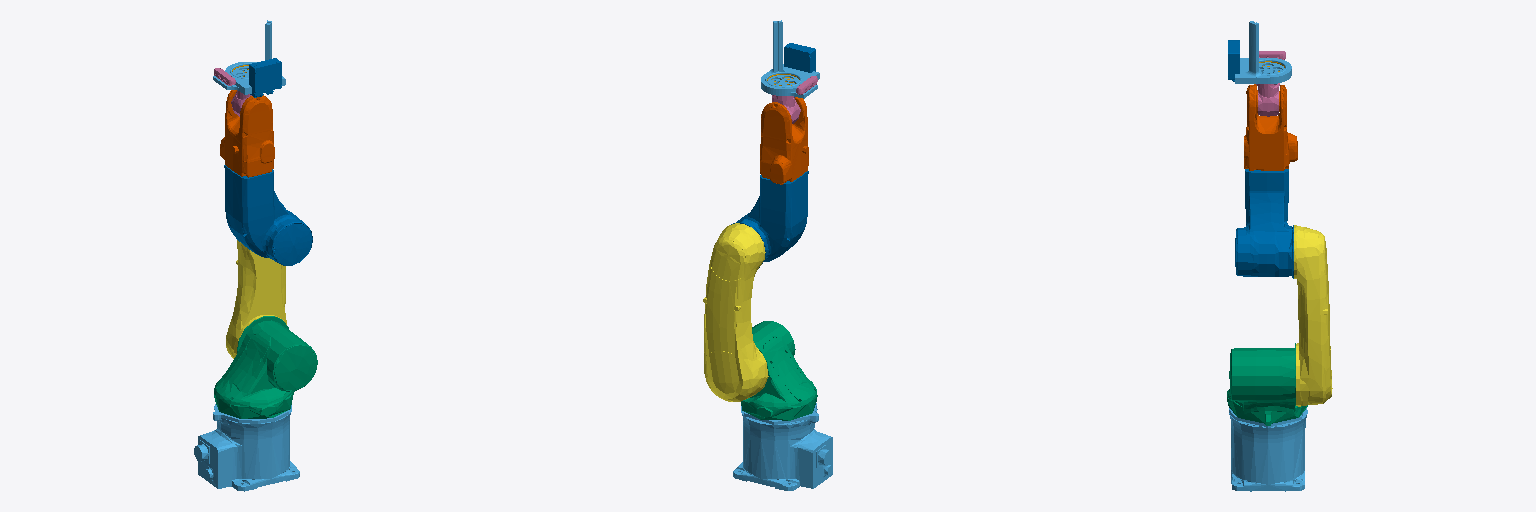
--- What the picture shows (computed from the rendered views, not written in the file) ---
3 views of the same robot in one strip: view 1: azimuth 30°, elevation 25°; view 2: azimuth 150°, elevation 25°; view 3: azimuth 270°, elevation 25° (orthographic).
Robot: add_post_pro_robot — 23 links, 22 joints (7 revolute, 1 prismatic, 14 fixed); root link world; default pose: every joint at zero.
Links seen in each view (by area): view 1: J1, base_link, J3, J2, J4, EEF_scancontrol, EEF_sensor_holder; view 2: J2, base_link, J1, J3, J4, EEF_sensor_holder, EEF_scancontrol; view 3: J2, J3, base_link, J1, J4, EEF_sensor_holder, J5.
Boxes of the visible links, x1=… form: J1: x1=214, y1=316, x2=317, y2=418; base_link: x1=194, y1=404, x2=299, y2=491; J3: x1=224, y1=165, x2=312, y2=265; J2: x1=226, y1=240, x2=286, y2=358; J4: x1=220, y1=90, x2=274, y2=177; EEF_scancontrol: x1=249, y1=58, x2=281, y2=97; EEF_sensor_holder: x1=213, y1=20, x2=285, y2=94; J2: x1=703, y1=223, x2=768, y2=401; base_link: x1=733, y1=403, x2=832, y2=490; J1: x1=741, y1=321, x2=817, y2=420; J3: x1=731, y1=171, x2=808, y2=267; J4: x1=760, y1=97, x2=808, y2=184; EEF_sensor_holder: x1=761, y1=20, x2=819, y2=98; EEF_scancontrol: x1=784, y1=43, x2=815, y2=72; J2: x1=1294, y1=225, x2=1332, y2=406; J3: x1=1235, y1=169, x2=1293, y2=278; base_link: x1=1229, y1=408, x2=1307, y2=491; J1: x1=1227, y1=343, x2=1307, y2=425; J4: x1=1244, y1=84, x2=1297, y2=170; EEF_sensor_holder: x1=1235, y1=21, x2=1291, y2=83; J5: x1=1256, y1=83, x2=1279, y2=116.
Bounding box of the posed robot: 0.3298 × 0.2828 × 1.36 m (x, y, z).
Meshes: 13 distinct files referenced, 11 mesh visuals loaded (11 binary STL); not drawn: 2 (reference not matched to a file when rendering).

URDF robot description (add_post_pro_robot):
<?xml version="1.0" ?>
<!-- =================================================================================== -->
<!-- |    This document was autogenerated by xacro from [local-path]/zzzzz/python/compiled/coobra2050/test/catkin_ws_dep/src/add_post_pro2/add_post_pro_simulation/urdf/add_post_pro_robot.urdf.xacro | -->
<!-- |    EDITING THIS FILE BY HAND IS NOT RECOMMENDED                                 | -->
<!-- =================================================================================== -->
<!-- =================================================================================== -->
<!-- |    This document was autogenerated by xacro from [local-path]/Projects/AddPostPro/src/add_post_pro_robot/urdf/multisensor_robot.urdf.xacro | -->
<!-- |    EDITING THIS FILE BY HAND IS NOT RECOMMENDED                                 | -->
<!-- =================================================================================== -->
<robot name="add_post_pro_robot">
    <transmission name="trans_1">
        <type>transmission_interface/SimpleTransmission</type>
        <joint name="joint_1">
            <hardwareInterface>hardware_interface/PositionJointInterface</hardwareInterface>
        </joint>
        <actuator name="motor_1">
            <hardwareInterface>hardware_interface/PositionJointInterface</hardwareInterface>
            <mechanicalReduction>1</mechanicalReduction>
        </actuator>
    </transmission>
    <transmission name="trans_2">
        <type>transmission_interface/SimpleTransmission</type>
        <joint name="joint_2">
            <hardwareInterface>hardware_interface/PositionJointInterface</hardwareInterface>
        </joint>
        <actuator name="motor_2">
            <hardwareInterface>hardware_interface/PositionJointInterface</hardwareInterface>
            <mechanicalReduction>1</mechanicalReduction>
        </actuator>
    </transmission>
    <transmission name="trans_3">
        <type>transmission_interface/SimpleTransmission</type>
        <joint name="joint_3">
            <hardwareInterface>hardware_interface/PositionJointInterface</hardwareInterface>
        </joint>
        <actuator name="motor_3">
            <hardwareInterface>hardware_interface/PositionJointInterface</hardwareInterface>
            <mechanicalReduction>1</mechanicalReduction>
        </actuator>
    </transmission>
    <transmission name="trans_4">
        <type>transmission_interface/SimpleTransmission</type>
        <joint name="joint_4">
            <hardwareInterface>hardware_interface/PositionJointInterface</hardwareInterface>
        </joint>
        <actuator name="motor_4">
            <hardwareInterface>hardware_interface/PositionJointInterface</hardwareInterface>
            <mechanicalReduction>1</mechanicalReduction>
        </actuator>
    </transmission>
    <transmission name="trans_5">
        <type>transmission_interface/SimpleTransmission</type>
        <joint name="joint_5">
            <hardwareInterface>hardware_interface/PositionJointInterface</hardwareInterface>
        </joint>
        <actuator name="motor_5">
            <hardwareInterface>hardware_interface/PositionJointInterface</hardwareInterface>
            <mechanicalReduction>1</mechanicalReduction>
        </actuator>
    </transmission>
    <transmission name="trans_6">
        <type>transmission_interface/SimpleTransmission</type>
        <joint name="joint_6">
            <hardwareInterface>hardware_interface/PositionJointInterface</hardwareInterface>
        </joint>
        <actuator name="motor_6">
            <hardwareInterface>hardware_interface/PositionJointInterface</hardwareInterface>
            <mechanicalReduction>1</mechanicalReduction>
        </actuator>
    </transmission>
    <gazebo>
        <plugin filename="libgazebo_ros_control.so" name="gazebo_ros_control">
            <robotNamespace>/add_post_pro_robot</robotNamespace>
        </plugin>
    </gazebo>
    <link name="world" />
    <joint name="joint_w" type="fixed">
        <parent link="world" />
        <child link="base_link" />
        <origin xyz="0 0 0" />
    </joint>
    <link name="base_link">
        <visual>
            <origin rpy="0 0 0" xyz="0 0 0" />
            <geometry>
                <mesh filename="package://denso_robot_descriptions/vs6577_description/meshes/base_link.stl" scale="1 1 1" />
            </geometry>
        </visual>
        <collision>
            <origin rpy="0 0 0" xyz="0 0 0" />
            <geometry>
                <mesh filename="package://denso_robot_descriptions/vs6577_description/meshes/base_link.stl" scale="1 1 1" />
            </geometry>
        </collision>
        <inertial>
            <mass value="1" />
            <origin rpy="0.000000 0.000000 0.000000" xyz="0.000000 0.000000 0.000000" />
            <inertia ixx="1" ixy="0" ixz="0" iyy="1" iyz="0" izz="1" />
        </inertial>
    </link>
    <link name="J1">
        <visual>
            <origin rpy="0 0 0" xyz="0 0 0" />
            <geometry>
                <mesh filename="package://denso_robot_descriptions/vs6577_description/meshes/J1.stl" scale="1 1 1" />
            </geometry>
        </visual>
        <collision>
            <origin rpy="0 0 0" xyz="0 0 0" />
            <geometry>
                <mesh filename="package://denso_robot_descriptions/vs6577_description/meshes/J1.stl" scale="1 1 1" />
            </geometry>
        </collision>
        <inertial>
            <mass value="1" />
            <origin rpy="0.000000 0.000000 0.000000" xyz="0.000000 0.000000 0.000000" />
            <inertia ixx="1" ixy="0" ixz="0" iyy="1" iyz="0" izz="1" />
        </inertial>
    </link>
    <link name="J2">
        <visual>
            <origin rpy="0 0 0" xyz="0 0 0" />
            <geometry>
                <mesh filename="package://denso_robot_descriptions/vs6577_description/meshes/J2.stl" scale="1 1 1" />
            </geometry>
        </visual>
        <collision>
            <origin rpy="0 0 0" xyz="0 0 0" />
            <geometry>
                <mesh filename="package://denso_robot_descriptions/vs6577_description/meshes/J2.stl" scale="1 1 1" />
            </geometry>
        </collision>
        <inertial>
            <mass value="1" />
            <origin rpy="0.000000 0.000000 0.000000" xyz="0.000000 0.000000 0.000000" />
            <inertia ixx="1" ixy="0" ixz="0" iyy="1" iyz="0" izz="1" />
        </inertial>
    </link>
    <link name="J3">
        <visual>
            <origin rpy="0 0 0" xyz="0 0 0" />
            <geometry>
                <mesh filename="package://denso_robot_descriptions/vs6577_description/meshes/J3.stl" scale="1 1 1" />
            </geometry>
        </visual>
        <collision>
            <origin rpy="0 0 0" xyz="0 0 0" />
            <geometry>
                <mesh filename="package://denso_robot_descriptions/vs6577_description/meshes/J3.stl" scale="1 1 1" />
            </geometry>
        </collision>
        <inertial>
            <mass value="1" />
            <origin rpy="0.000000 0.000000 0.000000" xyz="0.000000 0.000000 0.000000" />
            <inertia ixx="1" ixy="0" ixz="0" iyy="1" iyz="0" izz="1" />
        </inertial>
    </link>
    <link name="J4">
        <visual>
            <origin rpy="0 0 0" xyz="0 0 0" />
            <geometry>
                <mesh filename="package://denso_robot_descriptions/vs6577_description/meshes/J4.stl" scale="1 1 1" />
            </geometry>
        </visual>
        <collision>
            <origin rpy="0 0 0" xyz="0 0 0" />
            <geometry>
                <mesh filename="package://denso_robot_descriptions/vs6577_description/meshes/J4.stl" scale="1 1 1" />
            </geometry>
        </collision>
        <inertial>
            <mass value="1" />
            <origin rpy="0.000000 0.000000 0.000000" xyz="0.000000 0.000000 0.000000" />
            <inertia ixx="1" ixy="0" ixz="0" iyy="1" iyz="0" izz="1" />
        </inertial>
    </link>
    <link name="J5">
        <visual>
            <origin rpy="0 0 0" xyz="0 0 0" />
            <geometry>
                <mesh filename="package://denso_robot_descriptions/vs6577_description/meshes/J5.stl" scale="1 1 1" />
            </geometry>
        </visual>
        <collision>
            <origin rpy="0 0 0" xyz="0 0 0" />
            <geometry>
                <mesh filename="package://denso_robot_descriptions/vs6577_description/meshes/J5.stl" scale="1 1 1" />
            </geometry>
        </collision>
        <inertial>
            <mass value="1" />
            <origin rpy="0.000000 0.000000 0.000000" xyz="0.000000 0.000000 0.000000" />
            <inertia ixx="1" ixy="0" ixz="0" iyy="1" iyz="0" izz="1" />
        </inertial>
    </link>
    <link name="J6">
        <visual>
            <origin rpy="0 0 0" xyz="0 0 0" />
            <geometry>
                <mesh filename="package://denso_robot_descriptions/vs6577_description/meshes/J6.stl" scale="1 1 1" />
            </geometry>
        </visual>
        <collision>
            <origin rpy="0 0 0" xyz="0 0 0" />
            <geometry>
                <mesh filename="package://denso_robot_descriptions/vs6577_description/meshes/J6.stl" scale="1 1 1" />
            </geometry>
        </collision>
        <inertial>
            <mass value="1" />
            <origin rpy="0.000000 0.000000 0.000000" xyz="0.000000 0.000000 0.000000" />
            <inertia ixx="1" ixy="0" ixz="0" iyy="1" iyz="0" izz="1" />
        </inertial>
    </link>
    <gazebo reference="base_link">
        <material>Gazebo/CoM</material>
    </gazebo>
    <gazebo reference="J1">
        <material>Gazebo/Gray</material>
    </gazebo>
    <gazebo reference="J2">
        <material>Gazebo/Gray</material>
    </gazebo>
    <gazebo reference="J3">
        <material>Gazebo/Gray</material>
    </gazebo>
    <gazebo reference="J4">
        <material>Gazebo/Gray</material>
    </gazebo>
    <gazebo reference="J5">
        <material>Gazebo/Gray</material>
    </gazebo>
    <gazebo reference="J6">
        <material>Gazebo/Gray</material>
    </gazebo>
    <gazebo reference="EEF_tool_mount">
        <material>Gazebo/CoM</material>
    </gazebo>
    <gazebo>
        <gravity>False</gravity>
    </gazebo>
    <joint name="joint_1" type="revolute">
        <parent link="base_link" />
        <child link="J1" />
        <origin rpy="0.000000 0.000000 0.000000" xyz="0.000000 0.000000 0.000000" />
        <axis xyz="-0.000000 -0.000000 1.000000" />
        <limit effort="100" lower="-2.96706" upper="2.96706" velocity="1" />
        <dynamics damping="0" friction="0" />
    </joint>
    <joint name="joint_2" type="revolute">
        <parent link="J1" />
        <child link="J2" />
        <origin rpy="0.000000 0.000000 0.000000" xyz="0.075000 0.000000 0.335000" />
        <axis xyz="-0.000000 1.000000 -0.000000" />
        <limit effort="100" lower="-1.745329" upper="2.356194" velocity="1" />
        <dynamics damping="0" friction="0" />
    </joint>
    <joint name="joint_3" type="revolute">
        <parent link="J2" />
        <child link="J3" />
        <origin rpy="0.000000 0.000000 0.000000" xyz="0.000000 0.000000 0.365000" />
        <axis xyz="-0.000000 1.000000 -0.000000" />
        <limit effort="100" lower="-2.076942" upper="2.949606" velocity="1" />
        <dynamics damping="0" friction="0" />
    </joint>
    <joint name="joint_4" type="revolute">
        <parent link="J3" />
        <child link="J4" />
        <origin rpy="0.000000 0.000000 0.000000" xyz="-0.090000 0.000000 -0.700000" />
        <axis xyz="-0.000000 -0.000000 1.000000" />
        <limit effort="100" lower="-3.316126" upper="3.316126" velocity="1" />
        <dynamics damping="0" friction="0" />
    </joint>
    <joint name="joint_5" type="revolute">
        <parent link="J4" />
        <child link="J5" />
        <origin rpy="0.000000 0.000000 0.000000" xyz="0.000000 0.000000 1.105000" />
        <axis xyz="-0.000000 1.000000 -0.000000" />
        <limit effort="100" lower="-2.094395" upper="2.094395" velocity="1" />
        <dynamics damping="0" friction="0" />
    </joint>
    <joint name="joint_6" type="revolute">
        <parent link="J5" />
        <child link="J6" />
        <origin rpy="0.000000 0.000000 0.000000" xyz="0.000000 0.000000 0.080000" />
        <axis xyz="-0.000000 -0.000000 1.000000" />
        <limit effort="100" lower="-6.283185" upper="6.283185" velocity="1" />
        <dynamics damping="0" friction="0" />
    </joint>
    <!--link name="turntable_base">
        <visual>
            <origin rpy="0 0 0" xyz="0 0 0" />
            <geometry>
                <cylinder length=".32" radius=".02" />
            </geometry>
        </visual>
        <collision>
            <origin rpy="0 0 0" xyz="0 0 0" />
            <geometry>
                <cylinder length=".32" radius=".02" />
            </geometry>
        </collision>
        <inertial>
            <origin rpy="0 0 0" xyz="0 0 0" />
            <mass value="1" />
            <inertia ixx="100" ixy="0" ixz="0" iyy="100" iyz="0" izz="100" />
        </inertial>
    </link>
    <link name="turntable_plate">
        <visual>
            <origin rpy="0 0 0" xyz="0 0 0" />
            <geometry>
                <cylinder length=".01" radius=".15" />
            </geometry>
            <material name="Red">
                <color rgba="1.0 0 0 1.0" />
            </material>
        </visual>
        <collision>
            <origin rpy="0 0 0" xyz="0 0 0" />
            <geometry>
                <cylinder length=".01" radius=".15" />
            </geometry>
        </collision>
        <inertial>
            <origin rpy="0 0 0" xyz="0 0 0" />
            <mass value="1" />
            <inertia ixx="100" ixy="0" ixz="0" iyy="100" iyz="0" izz="100" />
        </inertial>
    </link>
    <joint name="turntable_joint" type="fixed">
        
        <parent link="world" />
        <child link="turntable_base" />
        <origin rpy="0 0 0" xyz="0 -.6 0.16" />
       
    </joint>
    <joint name="turntable_revolve_joint" type="continuous">
        <parent link="turntable_base" />
        <child link="turntable_plate" />
        <origin rpy="0.000000 0.000000 0.000000" xyz="0.000000 0.000000 .16" />
        
        <limit effort="1000.0" velocity="0.5" />
        <axis xyz="0 0 1" />
    </joint>
    <transmission name="trans_turntable_revolve_joint">
        <type>transmission_interface/SimpleTransmission</type>
        <joint name="turntable_revolve_joint">
            <hardwareInterface>hardware_interface/PositionJointInterface</hardwareInterface>
        </joint>
        <actuator name="turntable_revolve_joint_motor">
            <hardwareInterface>hardware_interface/PositionJointInterface</hardwareInterface>
            <mechanicalReduction>1</mechanicalReduction>
        </actuator>
    </transmission-->
    <link name="EEF_tool_mount">
        <visual>
            <origin rpy="0.000000 0 0" xyz="0 0 0" />
            <geometry>
                <mesh filename="package://add_post_pro_robot/meshes/tool_mount.stl" scale=".001 .001 .001" />
            </geometry>
        </visual>
        <collision>
            <origin rpy="0.000000 0 0" xyz="0 0 0" />
            <geometry>
                <mesh filename="package://add_post_pro_robot/meshes/tool_mount.stl" scale=".001 .001 .001" />
            </geometry>
        </collision>
        <inertial>
            <mass value="1" />
            <origin rpy="0.000000 0.000000 0.000000" xyz="0.000000 0.000000 0.000000" />
            <inertia ixx="1" ixy="0" ixz="0" iyy="1" iyz="0" izz="1" />
        </inertial>
    </link>
    <link name="EEF_sensor_holder">
        <visual>
            <origin rpy="0 0 0" xyz="0 0 0" />
            <geometry>
                <mesh filename="package://add_post_pro_robot/meshes/multisensor_holder_origin.stl" scale=".001 .001 .001" />
            </geometry>
        </visual>
        <collision>
            <origin rpy="0 0 0" xyz="0 0 0" />
            <geometry>
                <mesh filename="package://add_post_pro_robot/meshes/multisensor_holder_origin.stl" scale=".001 .001 .001" />
            </geometry>
        </collision>
        <inertial>
            <mass value="1" />
            <origin rpy="0.000000 0.000000 0.000000" xyz="0.000000 0.000000 0.000000" />
            <inertia ixx="1" ixy="0" ixz="0" iyy="1" iyz="0" izz="1" />
        </inertial>
    </link>
    <link name="EEF_scanner" />
    <link name="EEF_depstech_camera" />
    <joint name="end_effector_mount" type="fixed">
        <parent link="J6" />
        <child link="EEF_tool_mount" />
        <origin rpy="0.000000 0.000000 0.000000" xyz="0.000000 0.000000 0.000000" />
    </joint>
    <joint name="EEF_wire_joint" type="revolute">
        <origin rpy="3.14 0 0" xyz="0.0 0 0.18" />
        <parent link="EEF_tool_mount" />
        <child link="gripper_link" />
        <axis xyz="0 0 1" />
        <limit effort="100" lower="-2.96706" upper="2.96706" velocity="3.92699081698724" />
        <dynamics damping="0" friction="0" />
    </joint>
    <link name="gripper_link">
        <inertial>
            <origin rpy="0 0 0" xyz="0.00141082792436611 0.0723032366847936 -8.43889581212869E-06" />
            <mass value="0.0799939176940473" />
            <inertia ixx="2.76844464280798E-05" ixy="-9.12624570478781E-07" ixz="-3.54399098618829E-09" iyy="2.41142132607001E-05" iyz="-1.50768187987084E-08" izz="2.86263235549508E-05" />
        </inertial>
        <visual>
            <origin rpy="0 0 0" xyz="0 0 0" />
            <geometry>
                <mesh filename="package://denso_robot_descriptions/vs6577_description/meshes/gripper_link.STL" />
            </geometry>
            <material name="">
                <color rgba="1 1 1 1" />
            </material>
        </visual>
        <collision>
            <origin rpy="0 0 0" xyz="0 0 0" />
            <geometry>
                <mesh filename="package://denso_robot_descriptions/vs6577_description/meshes/gripper_link.STL" />
            </geometry>
        </collision>
    </link>
    <link name="wire_link">
        <inertial>
            <origin rpy="0 0 0" xyz="-3.64651320699625E-09 0.145245333065823 4.7191528418343E-10" />
            <mass value="0.0460124601960045" />
            <inertia ixx="1.20903697059879E-05" ixy="3.35111235215526E-14" ixz="6.77959108035406E-13" iyy="2.20549410957124E-05" iyz="2.72380348556016E-14" izz="1.20855456355529E-05" />
        </inertial>
        <visual>
            <origin rpy="0 0 0" xyz="0 0 0" />
            <geometry>
                <mesh filename="package://denso_robot_descriptions/vs6577_description/meshes/wire_link_modified.stl" />
            </geometry>
            <material name="">
                <color rgba="0.792156862745098 0.819607843137255 0.933333333333333 1" />
            </material>
        </visual>
        <collision>
            <origin rpy="0 0 0" xyz="0 0 0" />
            <geometry>
                <mesh filename="package://denso_robot_descriptions/vs6577_description/meshes/wire_link_modified.stl" />
            </geometry>
        </collision>
    </link>
    <joint name="wire_joint" type="prismatic">
        <origin rpy="1.5707963267949 0 0" xyz="0 0 0" />
        <parent link="gripper_link" />
        <child link="wire_link" />
        <axis xyz="0 1 0" />
        <limit effort="1000.0" lower="-0.05" upper="0.0" velocity="0.5" />
    </joint>
    <joint name="end_effector_magnet" type="fixed">
        <parent link="J6" />
        <child link="EEF_sensor_holder" />
        <origin rpy="0.000000 0.000000 3.14159265359" xyz="0.000000 0.000000 0.000000" />
    </joint>
    <joint name="end_effector_scanner_holder" type="fixed">
        <parent link="EEF_sensor_holder" />
        <child link="EEF_scanner" />
        <origin rpy="0.000000 3.14159265359 1.57079632679" xyz="0.000000 0.091600 0.005500" />
    </joint>
    <joint name="end_effector_depstech_holder" type="fixed">
        <parent link="EEF_sensor_holder" />
        <child link="EEF_depstech_camera" />
        <origin rpy="0.392699081699 -0.785398163397 -0.795339912301" xyz="-0.042000 0.0353000 0.19000" />
    </joint>
    <!-- Camera link -->
    <link name="D415_camera">
        <visual>
            <origin rpy="1.57079632679 0 1.57079632679" xyz="0 0 0" />
            <geometry>
                <mesh filename="package://realsense_cam/meshes/simplified_d415.stl" />
            </geometry>
        </visual>
        <collision>
            <geometry>
                <box size="0.0078 0.130 0.0192" />
            </geometry>
        </collision>
        <inertial>
            <mass value="0.0615752" />
            <origin rpy="0 0 0" xyz="0 0 0" />
            <inertia ixx="9.108e-05" ixy="0" ixz="0" iyy="2.51e-06" iyz="0" izz="8.931e-05" />
        </inertial>
    </link>
    <!-- Connect camera to parent frame-->
    <joint name="realsense_joint" type="fixed">
        <parent link="EEF_sensor_holder" />
        <child link="D415_camera" />
        <origin rpy="0 -1.57079632679 3.14159265359" xyz=".075 0.001 .031" />
    </joint>
    <!-- Virtual links representing the cameras positons and orientations-->
    <link name="camera_for_ray_query" />
    <link name="D415_color_optical_frame" />
    <link name="D415_depth_optical_frame" />
    <link name="D415_ired1_optical_frame" />
    <link name="D415_ired2_optical_frame" />
    <!-- Joints positioning the virtual links with respect to the camera main link-->
    <joint name="ray_query_joint" type="fixed">
        <parent link="D415_camera" />
        <child link="camera_for_ray_query" />
        <!-- <origin xyz="0 -0.046 0.004" rpy="0 0 0"/> -->
        <!-- The default position is change since in Rviz the cloud depth axis is Z not X-->
        <origin rpy="1.57079632679 3.14159265359 1.57079632679" xyz="0 0 0 " />
    </joint>
    <joint name="color_joint" type="fixed">
        <parent link="D415_camera" />
        <child link="D415_color_optical_frame" />
        <!-- <origin xyz="0 -0.046 0.004" rpy="0 0 0"/> -->
        <!-- The default position is change since in Rviz the cloud depth axis is Z not X-->
        <origin rpy="1.57079632679 3.14159265359 1.57079632679" xyz="0 0 0 " />
    </joint>
    <joint name="depth_joint" type="fixed">
        <parent link="D415_camera" />
        <child link="D415_depth_optical_frame" />
        <origin rpy="0 0 0" xyz="0 0 0" />
    </joint>
    <joint name="ired1_joint" type="fixed">
        <parent link="D415_camera" />
        <child link="D415_ired1_optical_frame" />
        <origin rpy="0 0 0" xyz="0 0 0" />
    </joint>
    <joint name="ired2_joint" type="fixed">
        <parent link="D415_camera" />
        <child link="D415_ired2_optical_frame" />
        <origin rpy="0 0 0" xyz="0 -0.055 0" />
    </joint>
    <!-- **********************************************************-->
    <!-- GAZEBO DEFINITIONS ***************************************-->
    <!-- Load plugin to the model ("robot" in urdf format)-->
    <gazebo>
        <plugin filename="librealsense_gazebo_plugin.so" name="D415" />
        <!--<pose frame="">0 0 0.015 0 0 0</pose>-->
    </gazebo>
    <!-- Load parameters to model's main link-->
    <gazebo reference="D415_camera">
        <self_collide>0</self_collide>
        <enable_wind>0</enable_wind>
        <kinematic>0</kinematic>
        <gravity>1</gravity>
        <!--<mu>1</mu>-->
        <mu2>1</mu2>
        <fdir1>0 0 0</fdir1>
        <!--<slip1>0</slip1>
        <slip2>0</slip2>-->
        <kp>1e+13</kp>
        <kd>1</kd>
        <!--<max_vel>0.01</max_vel>
        <min_depth>0</min_depth>-->
        <sensor name="camera_for_ray_query" type="camera">
            <frameName>camera_for_ray_query</frameName>
            <pose frame="">0 0 0 0 0 0</pose>
            <camera name="D415_camera">
                <horizontal_fov>1.211259</horizontal_fov>
                <image>
                    <width>1280</width>
                    <height>720</height>
                    <format>R8G8B8</format>
                </image>
                <clip>
                    <near>0.1</near>
                    <far>100</far>
                </clip>
                <noise>
                    <type>gaussian</type>
                    <mean>0.0</mean>
                    <stddev>0.007</stddev>
                </noise>
            </camera>
            <plugin filename="libRayQuery.so" name="ray_query" />
            <always_on>1</always_on>
            <update_rate>30</update_rate>
            <visualize>1</visualize>
        </sensor>
        <sensor name="D415_color_optical_frame" type="camera">
            <frameName>D415_color_optical_frame</frameName>
            <pose frame="">0 0 0 0 0 0</pose>
            <camera name="D415_camera">
                <horizontal_fov>1.211259</horizontal_fov>
                <image>
                    <width>1280</width>
                    <height>720</height>
                    <format>RGB_INT8</format>
                </image>
                <clip>
                    <near>0.1</near>
                    <far>100</far>
                </clip>
                <noise>
                    <type>gaussian</type>
                    <mean>0.0</mean>
                    <stddev>0.007</stddev>
                </noise>
            </camera>
            <always_on>1</always_on>
            <update_rate>60</update_rate>
            <visualize>1</visualize>
        </sensor>
        <sensor name="D415_ired1_optical_frame" type="camera">
            <frameName>D415_ired1_optical_frame</frameName>
            <pose frame="">0 0 0 0 0 0</pose>
            <camera name="D415_camera">
                <horizontal_fov>1.047</horizontal_fov>
                <image>
                    <width>1280</width>
                    <height>720</height>
                    <format>L_INT8</format>
                </image>
                <clip>
                    <near>0.1</near>
                    <far>100</far>
                </clip>
                <noise>
                    <type>gaussian</type>
                    <mean>0.0</mean>
                    <stddev>0.05</stddev>
                </noise>
            </camera>
            <always_on>1</always_on>
            <update_rate>60</update_rate>
            <visualize>0</visualize>
        </sensor>
        <sensor name="D415_ired2_optical_frame" type="camera">
            <frameName>D415_ired2_optical_frame</frameName>
            <pose frame="">0 -0.055 0 0 0</pose>
            <camera name="D415_camera">
                <horizontal_fov>1.047</horizontal_fov>
                <image>
                    <width>1280</width>
                    <height>720</height>
                    <format>L_INT8</format>
                </image>
                <clip>
                    <near>0.1</near>
                    <far>100</far>
                </clip>
                <noise>
                    <type>gaussian</type>
                    <mean>0.0</mean>
                    <stddev>0.05</stddev>
                </noise>
            </camera>
            <always_on>1</always_on>
            <update_rate>60</update_rate>
            <visualize>0</visualize>
        </sensor>
        <sensor name="D415_depth_optical_frame" type="depth">
            <pose frame="">0 0 0 0 0 0</pose>
            <camera name="D415_camera">
                <frameName>D415_depth_optical_frame</frameName>
                <horizontal_fov>1.13446</horizontal_fov>
                <image>
                    <width>1280</width>
                    <height>720</height>
                </image>
                <clip>
                    <near>0.1</near>
                    <far>100</far>
                </clip>
                <noise>
                    <type>gaussian</type>
                    <mean>0.0</mean>
                    <stddev>0.100</stddev>
                </noise>
            </camera>
            <always_on>1</always_on>
            <update_rate>60</update_rate>
            <visualize>0</visualize>
        </sensor>
    </gazebo>
    <!-- DONE -->
    <!-- Scanner link -->
    <link name="EEF_scancontrol">
        <visual>
            <origin rpy="0 0 0" xyz="0 0 0" />
            <geometry>
                <mesh filename="package://add_post_pro_robot/meshes/scancontrol2900.stl" scale=".001 .001 .001" />
            </geometry>
        </visual>
        <collision>
            <origin rpy="0 0 0" xyz="0 0 0" />
            <geometry>
                <mesh filename="package://add_post_pro_robot/meshes/scancontrol2900_collision.stl" scale=".001 .001 .001" />
            </geometry>
        </collision>
        <inertial>
            <mass value="1" />
            <origin rpy="0.000000 0.000000 0.000000" xyz="0.000000 0.000000 0.000000" />
            <inertia ixx="1" ixy="0" ixz="0" iyy="1" iyz="0" izz="1" />
        </inertial>
    </link>
    <link name="scancontrol2900-50_laser" />
    <joint name="end_effector_scanner" type="fixed">
        <parent link="EEF_scanner" />
        <child link="EEF_scancontrol" />
        <origin rpy="0.000000 0.000000 0.000000" xyz="0.000000 0.000000 0.000000" />
    </joint>
    <joint name="laser_joint" type="fixed">
        <parent link="EEF_scancontrol" />
        <child link="scancontrol2900-50_laser" />
        <origin rpy="0 1.57079632679 -1.57079632679" xyz="0 -0.0324522 -.0761366" />
    </joint>
    <!-- <origin xyz="0 -0.0324522 -.0761366" rpy="${M_PI} ${M_PI/2} ${M_PI/2}"/> -->
    <gazebo reference="scancontrol2900-50_laser">
        <sensor name="scancontrol" type="gpu_ray">
            <pose>0 0 0 0 0 0</pose>
            <visualize>true</visualize>
            <update_rate>40</update_rate>
            <ray>
                <scan>
                    <horizontal>
                        <samples>1024</samples>
                        <resolution>1</resolution>
                        <min_angle>-0.392699081699</min_angle>
                        <max_angle>0.392699081699</max_angle>
                    </horizontal>
                </scan>
                <range>
                    <min>0.1</min>
                    <max>0.500</max>
                    <resolution>0.01</resolution>
                </range>
            </ray>
            <plugin filename="libgazebo_ros_gpu_laser.so" name="scancontrol_laser">
                <topicName>/arm/laser_scan</topicName>
                <frameName>scancontrol2900-50_laser</frameName>
            </plugin>
        </sensor>
    </gazebo>
    <link name="depstech_camera_link">
        <collision>
            <origin rpy="0 0 0" xyz="0 0 0" />
            <geometry>
                <cylinder length="0.02" radius="0.01" />
            </geometry>
        </collision>
        <inertial>
            <mass value="1e-5" />
            <origin rpy="0 0 0" xyz="0 0 0" />
            <inertia ixx="1e-6" ixy="0" ixz="0" iyy="1e-6" iyz="0" izz="1e-6" />
        </inertial>
    </link>
    <joint name="camera_link_joint" type="fixed">
        <parent link="EEF_depstech_camera" />
        <child link="depstech_camera_link" />
        <origin rpy="0.000000 0.000000 0.000000" xyz="0.000000 0.000000 0.000000" />
    </joint>
    <!-- camera -->
    <gazebo reference="depstech_camera_link">
        <sensor name="depstech_camera" type="camera">
            <update_rate>30.0</update_rate>
            <camera name="depstech_camera">
                <horizontal_fov>1.3962634</horizontal_fov>
                <image>
                    <width>800</width>
                    <height>800</height>
                    <format>R8G8B8</format>
                </image>
                <clip>
                    <near>0.02</near>
                    <far>300</far>
                </clip>
                <noise>
                    <type>gaussian</type>
                    <!-- Noise is sampled independently per pixel on each frame.
               That pixel's noise value is added to each of its color
               channels, which at that point lie in the range [0,1]. -->
                    <mean>0.0</mean>
                    <stddev>0.007</stddev>
                </noise>
            </camera>
            <plugin filename="libgazebo_ros_camera.so" name="camera_controller">
                <alwaysOn>true</alwaysOn>
                <updateRate>0.0</updateRate>
                <cameraName>depstech_camera/camera/</cameraName>
                <imageTopicName>image_raw</imageTopicName>
                <cameraInfoTopicName>camera_info</cameraInfoTopicName>
                <frameName>depstech_camera_link</frameName>
                <hackBaseline>0.07</hackBaseline>
                <distortionK1>0.0</distortionK1>
                <distortionK2>0.0</distortionK2>
                <distortionK3>0.0</distortionK3>
                <distortionT1>0.0</distortionT1>
                <distortionT2>0.0</distortionT2>
            </plugin>
        </sensor>
    </gazebo>
    <!-- END OF SCANCONTROL -->
    <gazebo reference="EEF_sensor_holder">
        <material>Gazebo/CoM</material>
    </gazebo>
    <gazebo reference="D415_camera">
        <material>Gazebo/CoM</material>
    </gazebo>
    <transmission name="trans_EEF_wire_joint">
        <type>transmission_interface/SimpleTransmission</type>
        <joint name="EEF_wire_joint">
            <hardwareInterface>hardware_interface/EffortJointInterface</hardwareInterface>
        </joint>
        <actuator name="EEF_wire_joint_motor">
            <hardwareInterface>hardware_interface/EffortJointInterface</hardwareInterface>
            <mechanicalReduction>1</mechanicalReduction>
        </actuator>
    </transmission>
    <transmission name="trans_wire_joint">
        <type>transmission_interface/SimpleTransmission</type>
        <joint name="wire_joint">
            <hardwareInterface>hardware_interface/EffortJointInterface</hardwareInterface>
        </joint>
        <actuator name="wire_joint_motor">
            <hardwareInterface>hardware_interface/EffortJointInterface</hardwareInterface>
            <mechanicalReduction>1</mechanicalReduction>
        </actuator>
    </transmission>
</robot>
